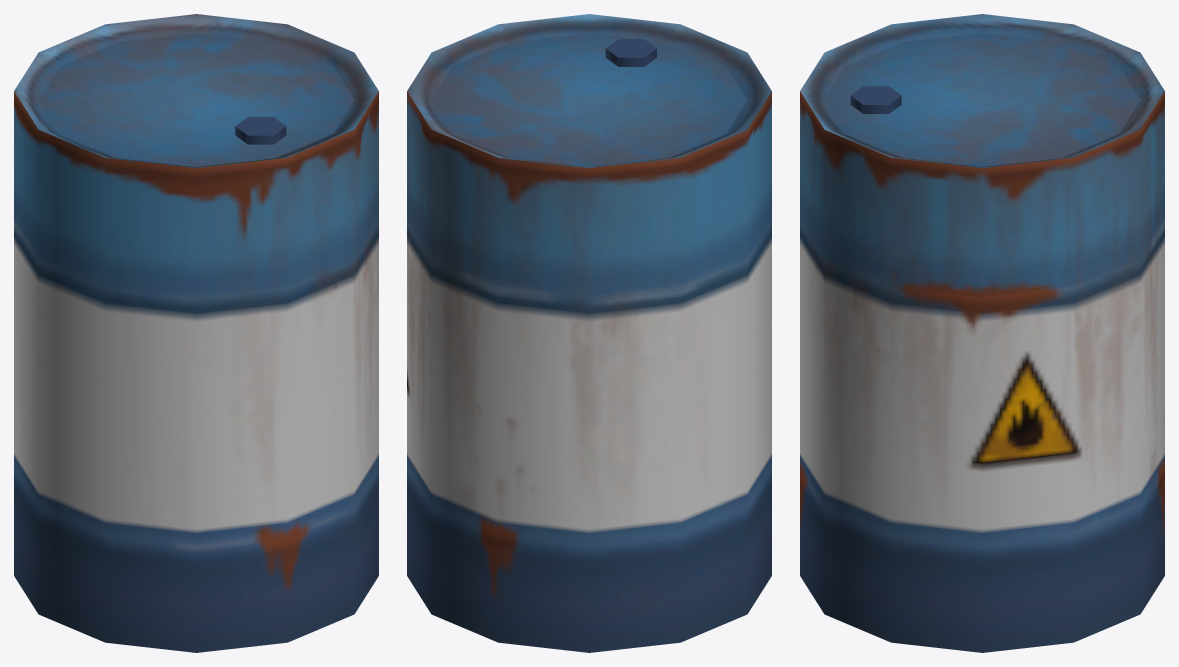
File: barrel02_a.gltf
The picture shows the model from 3 angles, left to right: view 1: azimuth 30°, elevation 25°; view 2: azimuth 150°, elevation 25°; view 3: azimuth 270°, elevation 25°; orthographic projection.
Visible parts, largest first — view 1: barrel02_A; view 2: barrel02_A; view 3: barrel02_A.
Boxes of the visible parts, x1,y1,x2,y2 form: barrel02_A: (14, 14, 378, 652); barrel02_A: (407, 14, 771, 652); barrel02_A: (800, 14, 1164, 652).
Bounding box in the file's own units: 0.6895 × 1.01 × 0.6895.
1 material, 1 textured.
